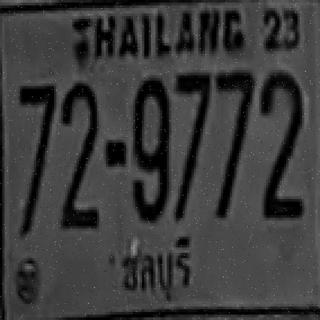N02: (259, 68, 302, 184), (262, 102, 302, 215), (61, 80, 97, 198), (59, 118, 97, 226)
N07: (215, 68, 251, 160), (18, 83, 54, 172), (175, 70, 211, 159)
N09: (131, 84, 169, 220), (131, 97, 169, 221)
P13: (110, 235, 200, 305)
